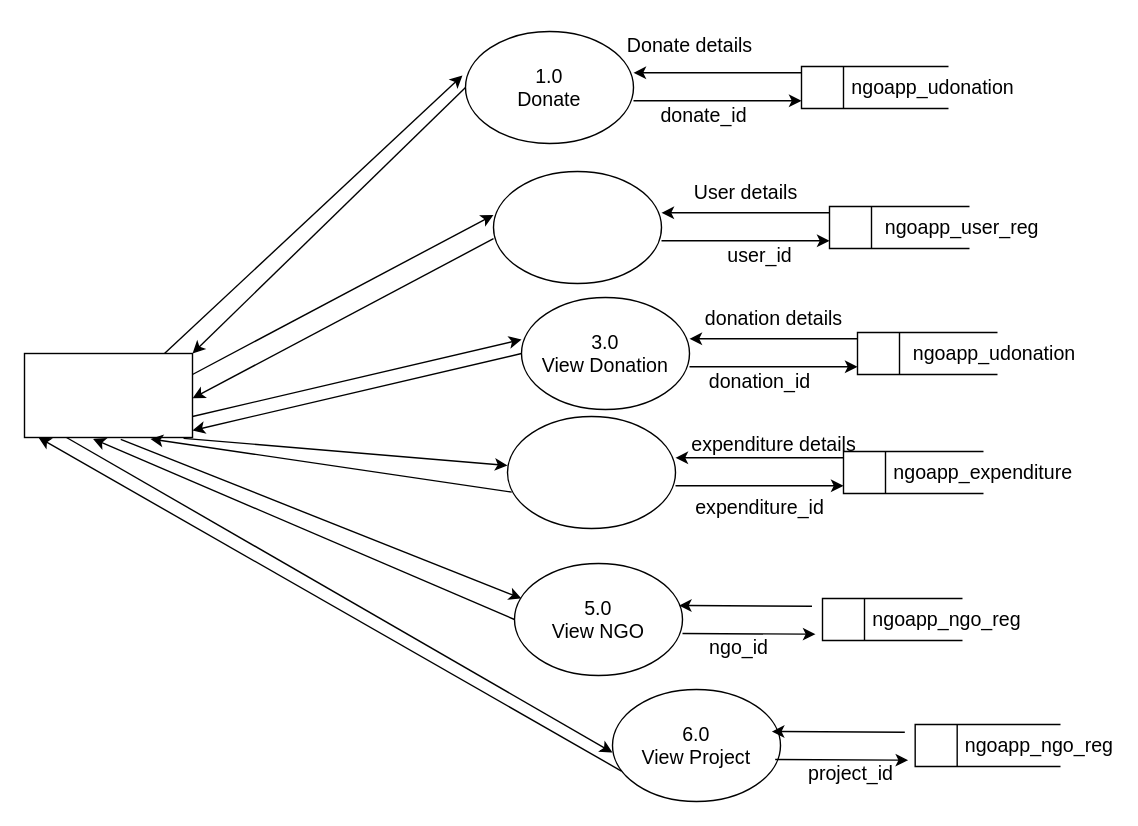
Some shapes in this 1138 by 826 pixel diagram are drawn without their labels. The shapes that lost their labels are listed below. From the top down, each one's centre as x and y in pixels, then its label:
point (577, 227): 2.0 Update Profile
point (107, 395): User
point (591, 471): 4.0 View Expenditure
